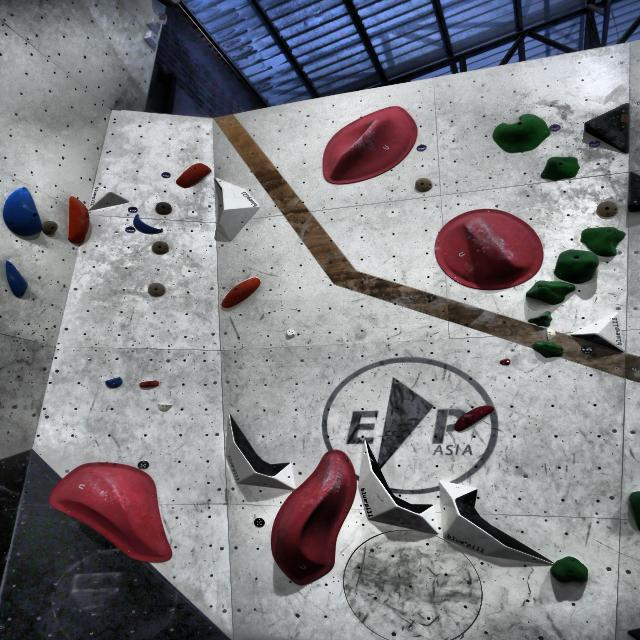Hold: (51, 458, 178, 564), (274, 449, 356, 587), (430, 210, 538, 294), (322, 102, 417, 190), (488, 110, 551, 158), (1, 180, 40, 240), (62, 192, 94, 246), (554, 248, 598, 284), (526, 280, 582, 308), (449, 404, 497, 436), (579, 226, 629, 256), (0, 258, 33, 301), (220, 277, 260, 308), (172, 160, 216, 188), (551, 557, 590, 587), (536, 157, 580, 183), (528, 340, 570, 360), (524, 309, 560, 332), (128, 210, 162, 234), (625, 489, 640, 531), (144, 282, 167, 298), (152, 199, 172, 214), (44, 220, 60, 238), (283, 326, 302, 340), (137, 378, 159, 389), (101, 378, 120, 390), (152, 402, 172, 412), (501, 356, 511, 366)
